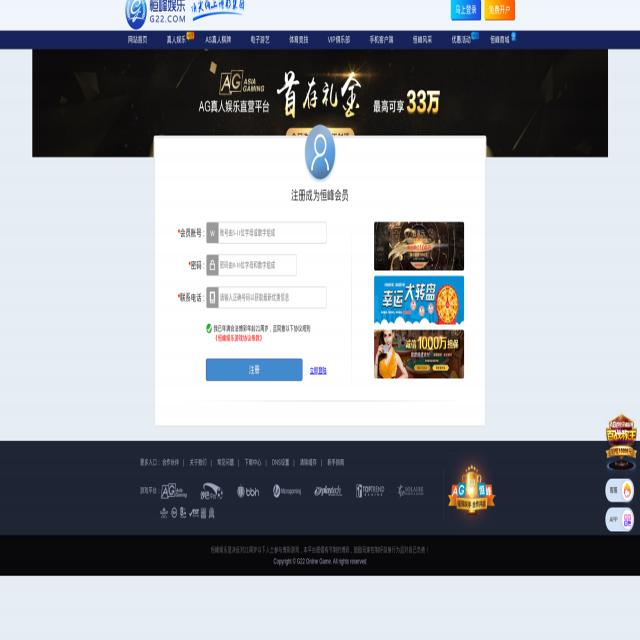button: (374, 275, 464, 325), (374, 329, 464, 379), (374, 222, 464, 271), (125, 0, 245, 31), (445, 460, 501, 522), (206, 359, 302, 380), (305, 125, 335, 179), (353, 480, 388, 502), (270, 482, 304, 502), (606, 508, 634, 532), (605, 479, 634, 502), (484, 0, 515, 21), (395, 481, 427, 501), (199, 480, 225, 503), (160, 481, 188, 502), (312, 483, 344, 501), (451, 1, 481, 20), (235, 482, 262, 502), (188, 506, 200, 520), (159, 505, 169, 521), (178, 505, 188, 520), (170, 506, 178, 520), (208, 507, 216, 519), (200, 507, 207, 520)
field: (218, 222, 326, 243), (218, 287, 326, 308), (218, 255, 296, 275)
